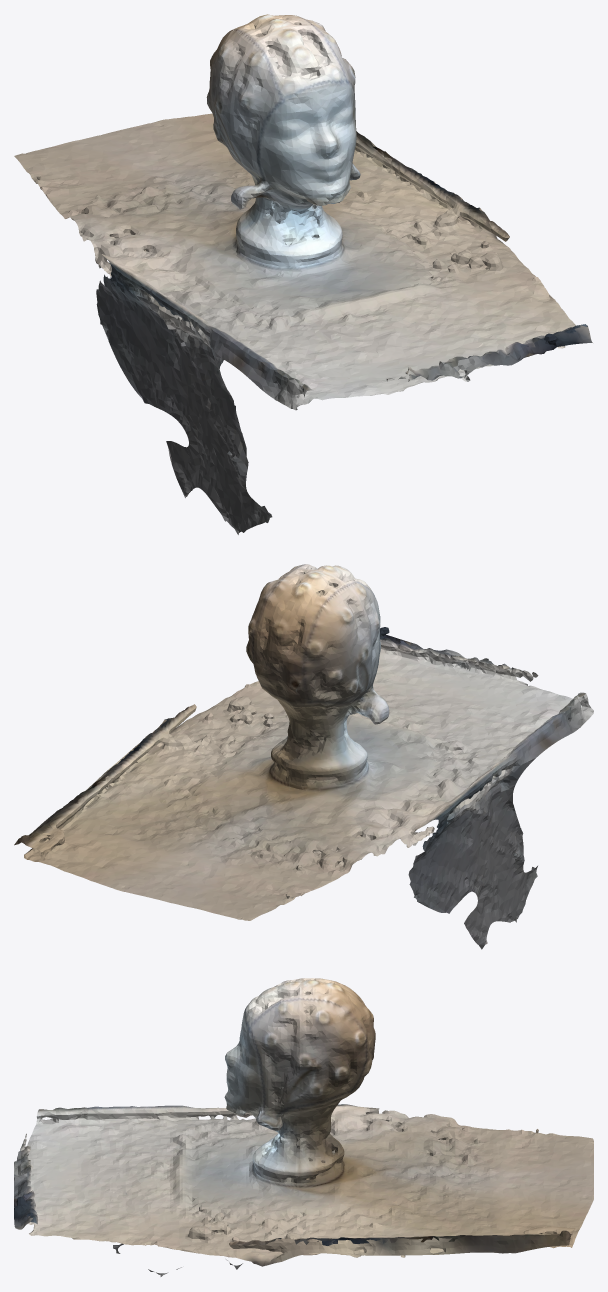
Rendered from Testmessung_3_3D_scan_Polycam.glb.
3 views of the same model, one above another, from view 1: azimuth 30°, elevation 25°; view 2: azimuth 150°, elevation 25°; view 3: azimuth 270°, elevation 25° (orthographic). The views are drawn at different scales.
Size of the model in its own units: 0.4378 by 0.5024 by 0.7564.
Materials: 1 (1 with a texture image).
